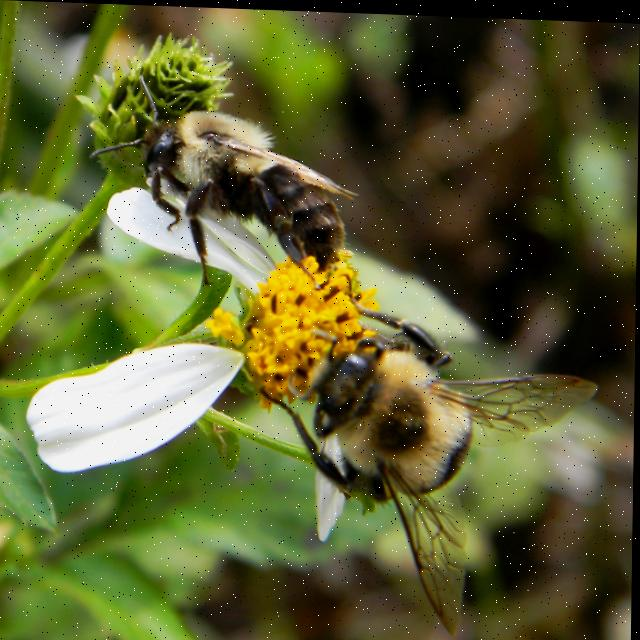Allodapula: (263, 290, 618, 632), (96, 57, 385, 291)
